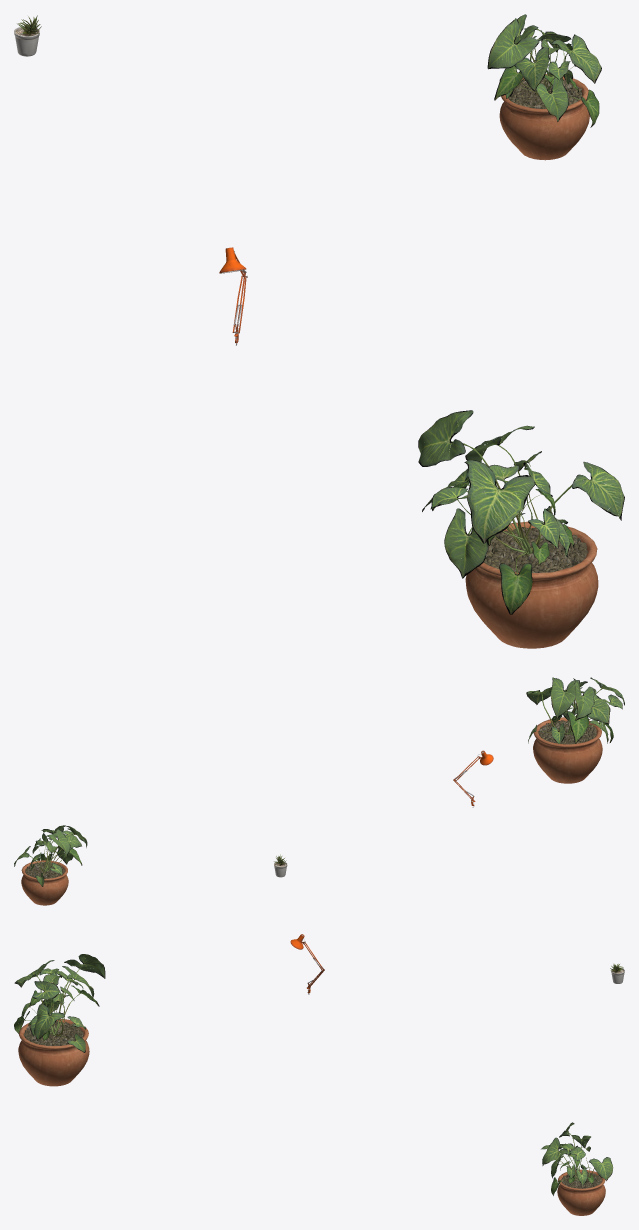
The model's file is props.glb.
The picture shows the model from 3 angles, top to bottom: view 1: azimuth 30°, elevation 25°; view 2: azimuth 150°, elevation 25°; view 3: azimuth 270°, elevation 25°; orthographic projection. The views are drawn at different scales.
Visible parts, largest first — view 1: PROP_plantBig_potted_plant_02_leaves, PROP_plantBig_potted_plant_02_pot, PROP_plantBowl_potted_plant_02_leaves, PROP_plantBowl_potted_plant_02_pot, PROP_plantBig_potted_plant_02_dirt, PROP_plantBowl_potted_plant_02_dirt; view 2: PROP_plantBig_potted_plant_02_leaves, PROP_plantBig_potted_plant_02_pot, PROP_plantBowl_potted_plant_02_leaves, PROP_plantBowl_potted_plant_02_pot, PROP_plantBig_potted_plant_02_dirt, PROP_plantBowl_potted_plant_02_dirt, PROP_deskLamp_desk_lamp_arm_01; view 3: PROP_plantBig_potted_plant_02_leaves, PROP_plantBig_potted_plant_02_pot, PROP_plantBowl_potted_plant_02_leaves, PROP_plantBowl_potted_plant_02_pot, PROP_plantBig_potted_plant_02_dirt.
Part boxes in pixels (x1,y1,x2,y2): PROP_plantBig_potted_plant_02_leaves: [418, 410, 624, 614]; PROP_plantBig_potted_plant_02_pot: [465, 521, 598, 648]; PROP_plantBowl_potted_plant_02_leaves: [487, 14, 601, 127]; PROP_plantBowl_potted_plant_02_pot: [499, 74, 589, 160]; PROP_plantBig_potted_plant_02_dirt: [483, 527, 587, 572]; PROP_plantBowl_potted_plant_02_dirt: [508, 78, 582, 108]; PROP_plantBig_potted_plant_02_leaves: [526, 677, 624, 743]; PROP_plantBig_potted_plant_02_pot: [533, 717, 602, 783]; PROP_plantBowl_potted_plant_02_leaves: [14, 825, 87, 886]; PROP_plantBowl_potted_plant_02_pot: [21, 860, 68, 905]; PROP_plantBig_potted_plant_02_dirt: [538, 720, 596, 744]; PROP_plantBowl_potted_plant_02_dirt: [25, 861, 64, 878]; PROP_deskLamp_desk_lamp_arm_01: [453, 750, 493, 807]; PROP_plantBig_potted_plant_02_leaves: [14, 954, 105, 1052]; PROP_plantBig_potted_plant_02_pot: [18, 1019, 89, 1086]; PROP_plantBowl_potted_plant_02_leaves: [541, 1122, 613, 1195]; PROP_plantBowl_potted_plant_02_pot: [557, 1169, 605, 1215]; PROP_plantBig_potted_plant_02_dirt: [23, 1021, 83, 1045].
Bounding box in the file's own units: 3.96 × 1.37 × 6.04.
Materials: 7 (7 with a texture image).
